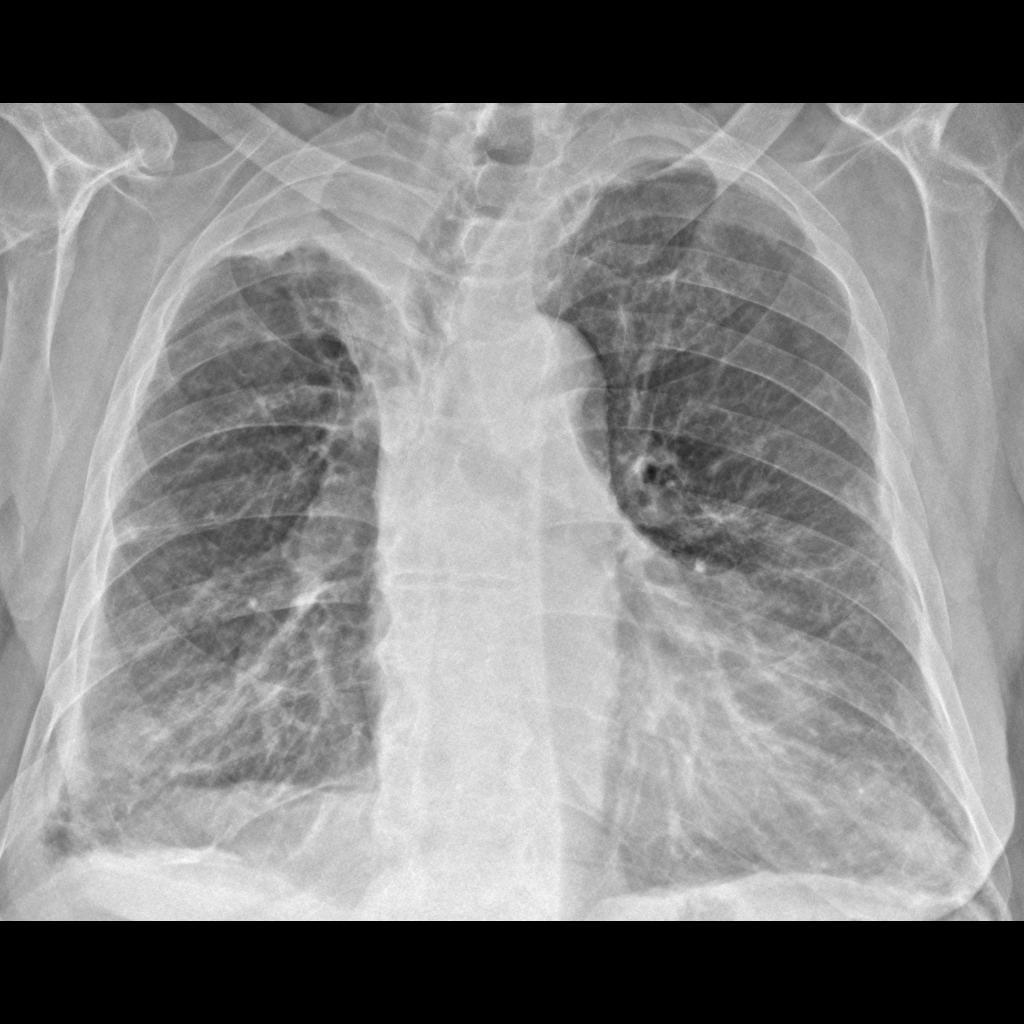Nodule: (105, 701, 177, 790)
